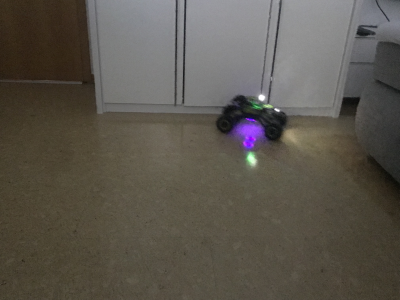remote control car: (215, 91, 288, 142)
